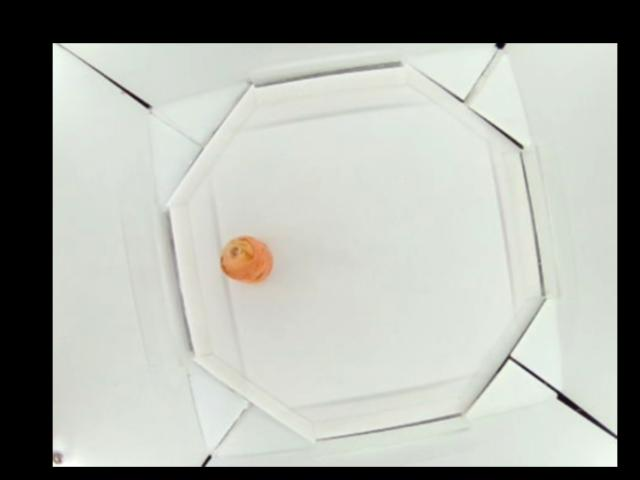Carrot: (217, 233, 274, 284)
